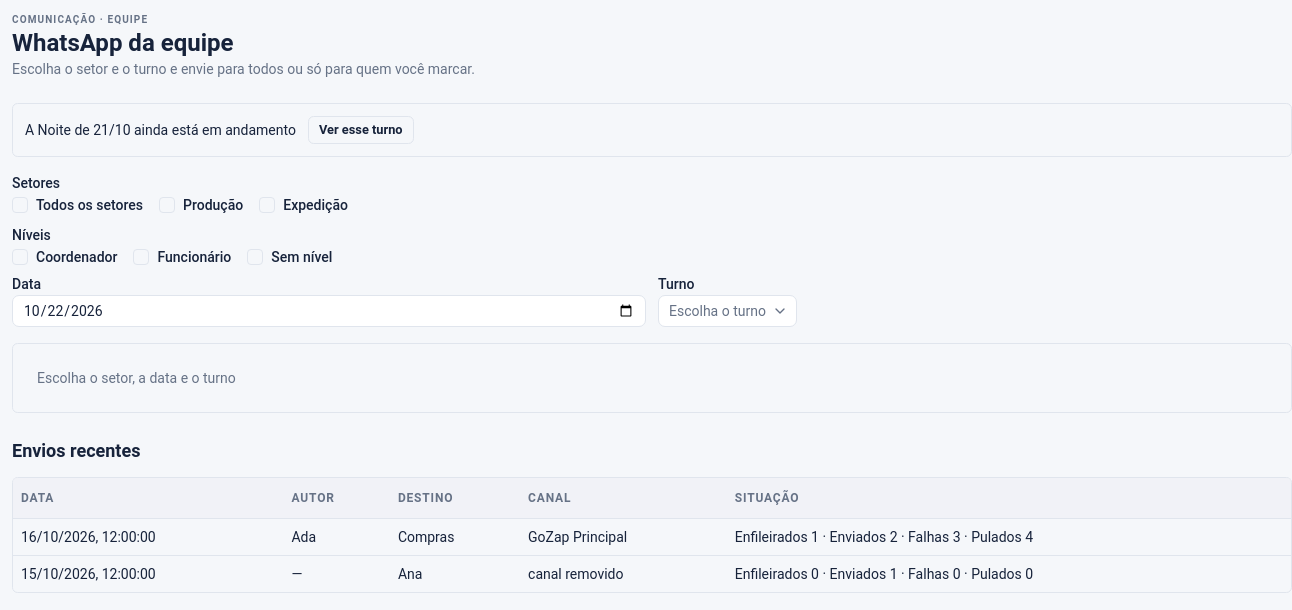
Test: WhatsApp da equipe: turno em andamento › aviso A Noite de 21/10 ainda está em andamento; Ver esse turno troca data e turno
Expected: the date field labelled "Data" holds "2026-10-22", [12, 295, 646, 327]
Expected: the text "A Noite de 21/10 ainda está em andamento" is shown, [25, 120, 296, 140]
Click the button "Ver esse turno".
click(361, 130)  # box [308, 116, 414, 144]
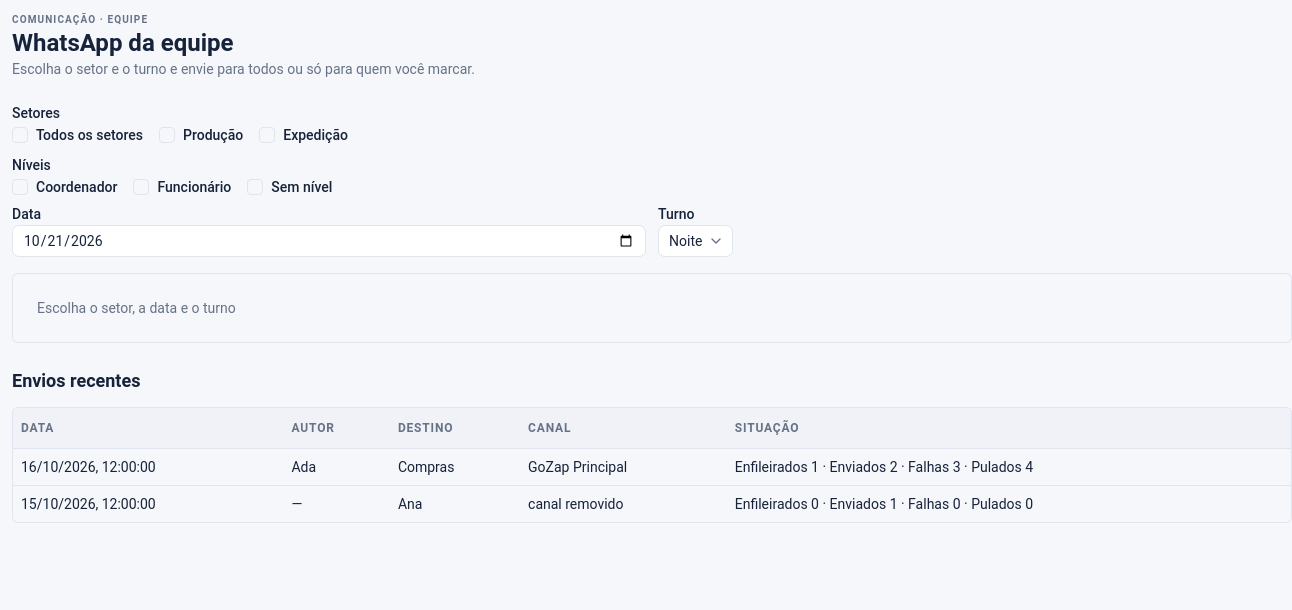
Expected: the date field labelled "Data" holds "2026-10-21", [12, 225, 646, 257]
Expected: the dropdown named "Turno" reads "Noite", [658, 225, 733, 257]
Expected: the text "A Noite de 21/10 ainda está em andamento" is gone
